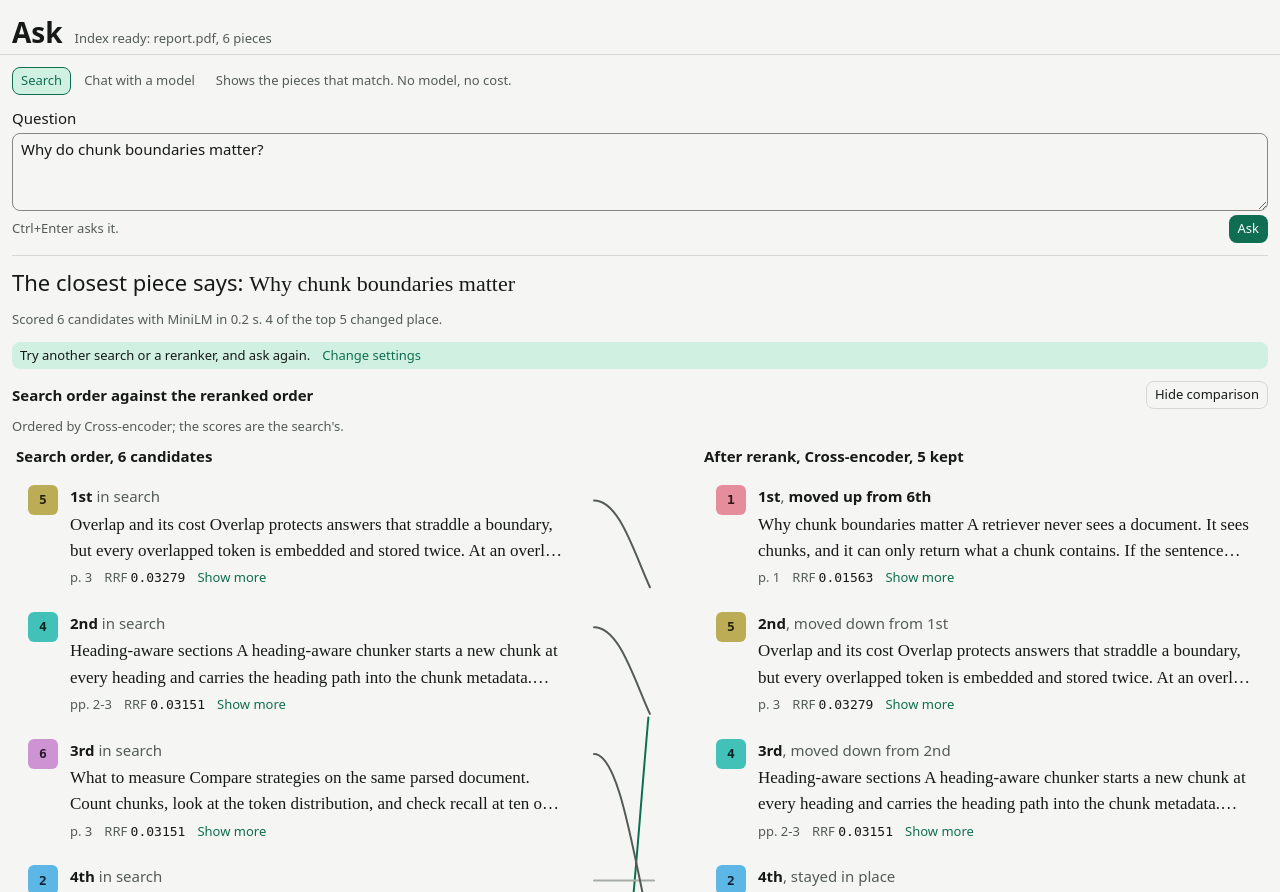
Test case: the comparison, with a reranker › collapsing hides the search order and keeps the reranked list with its finding lines
This screenshot has width=1280, height=892.
Click the button "Hide comparison" at point(1207, 395), box [1146, 381, 1268, 409]
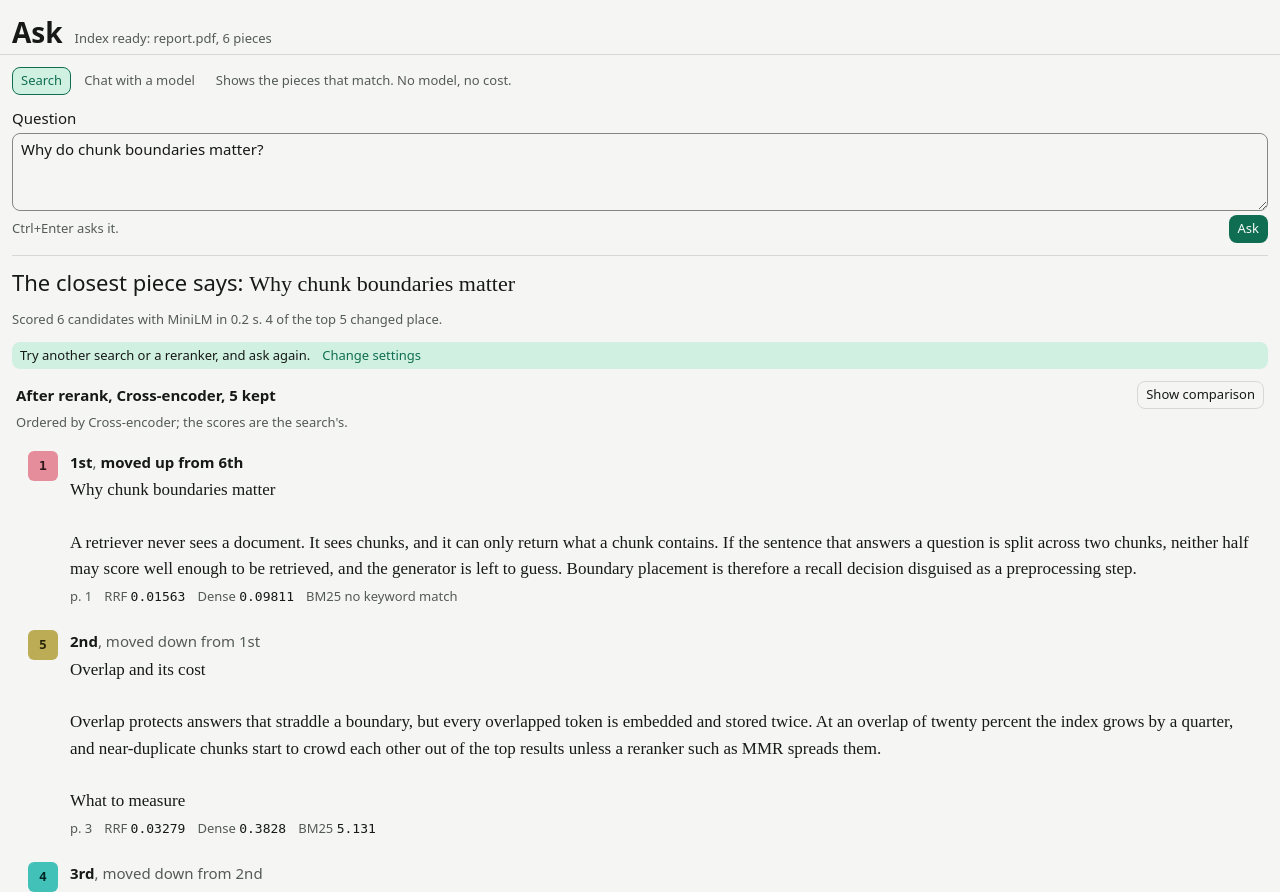
Expected: the element with test id "finding" reads "1st, moved up from 6th", [70, 452, 243, 472]
Expected: the heading "Search order, 6 candidates" is gone
Expected: the button "Show comparison" is shown
Click the button "Show comparison" at point(1201, 395), box [1137, 381, 1264, 409]
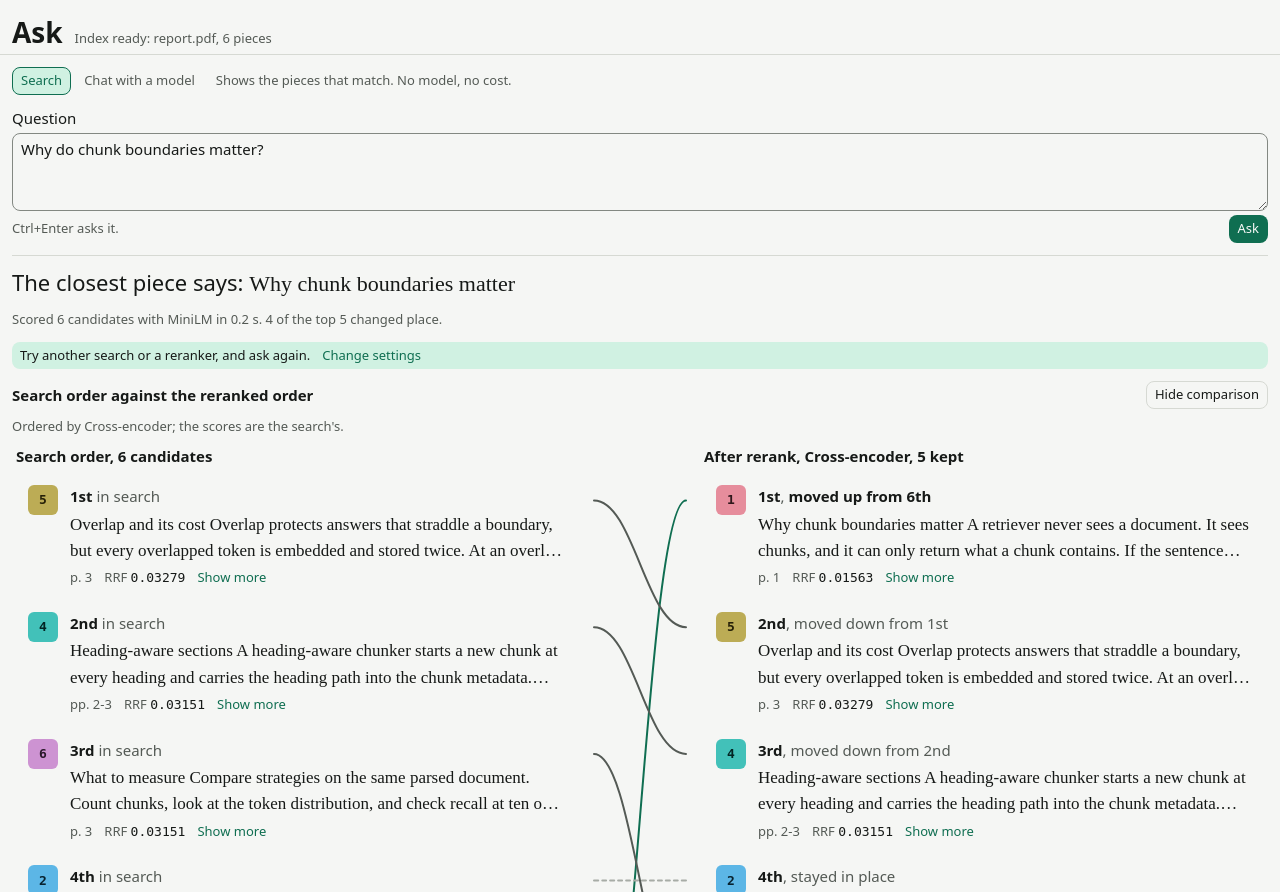
Expected: the heading "Search order, 6 candidates" is shown, [16, 445, 212, 467]
